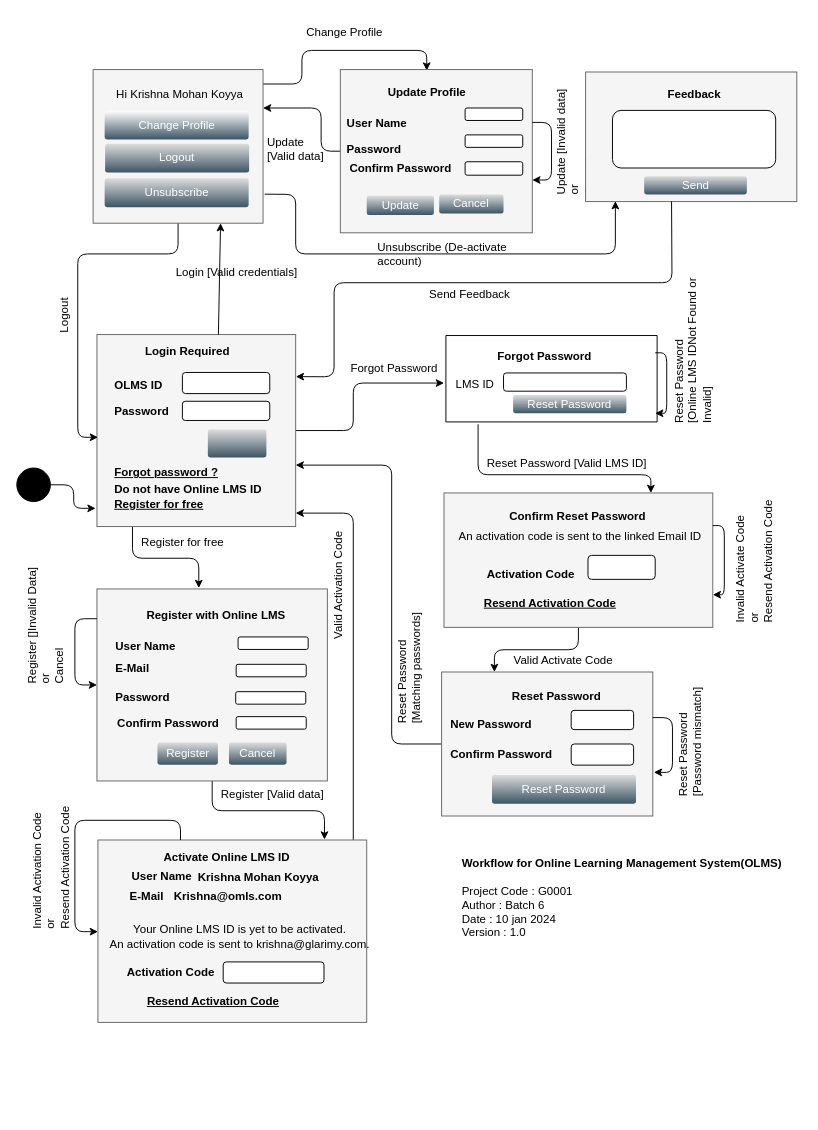
Some shapes in this 818 by 1130 pixel diagram are drawn without their labels. The shapes that lost their labels are listed below. From the top down, each one's centre as x and y in pixels, then its label:
pixel 236 443: Login
pixel 33 484: START
